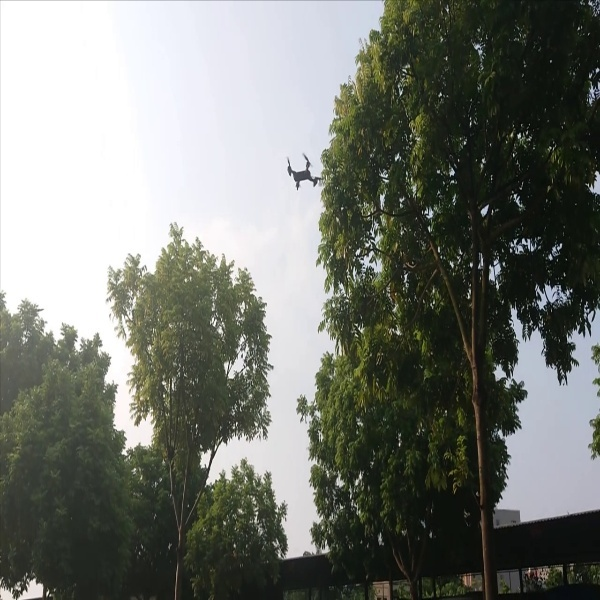drone: (276, 148, 328, 196)
